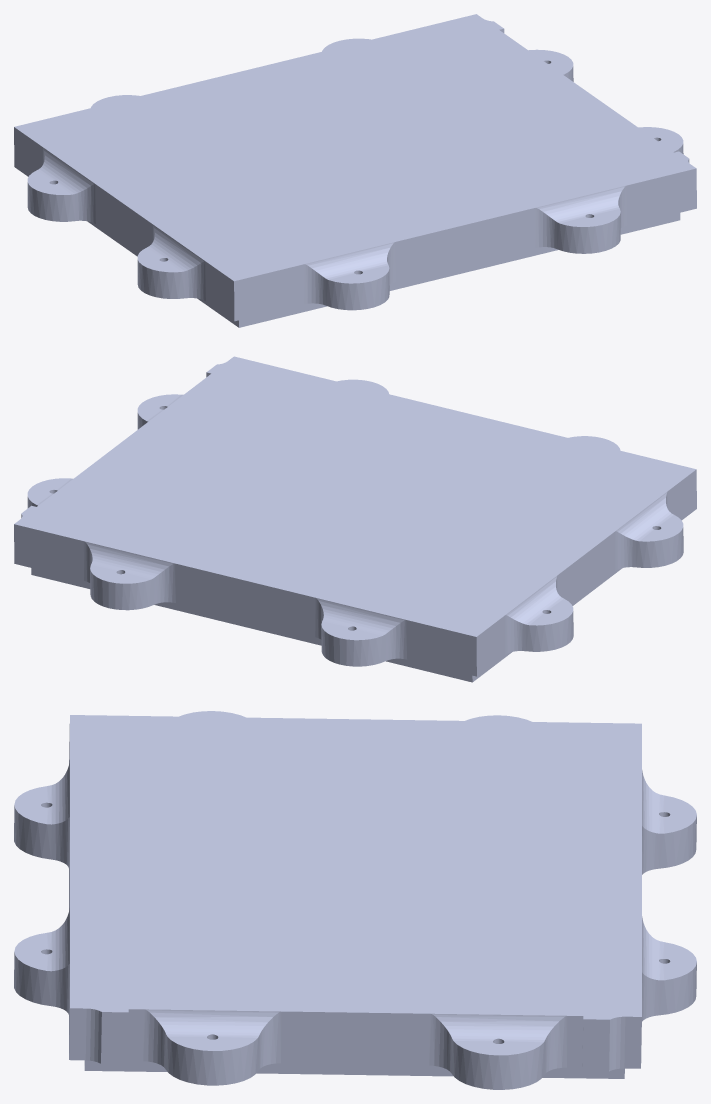
File: VC_Lid.glb
The picture shows the model from 3 angles, top to bottom: view 1: azimuth 30°, elevation 25°; view 2: azimuth 150°, elevation 25°; view 3: azimuth 270°, elevation 25°; orthographic projection. The views are drawn at different scales.
Parts seen in each view (by area): view 1: world; view 2: world; view 3: world.
Boxes of the visible parts, x1,y1,x2,y2 form: world: (14,14,696,327); world: (14,356,696,682); world: (14,711,696,1089).
Bounding box in the file's own units: 211 × 22.43 × 179.
